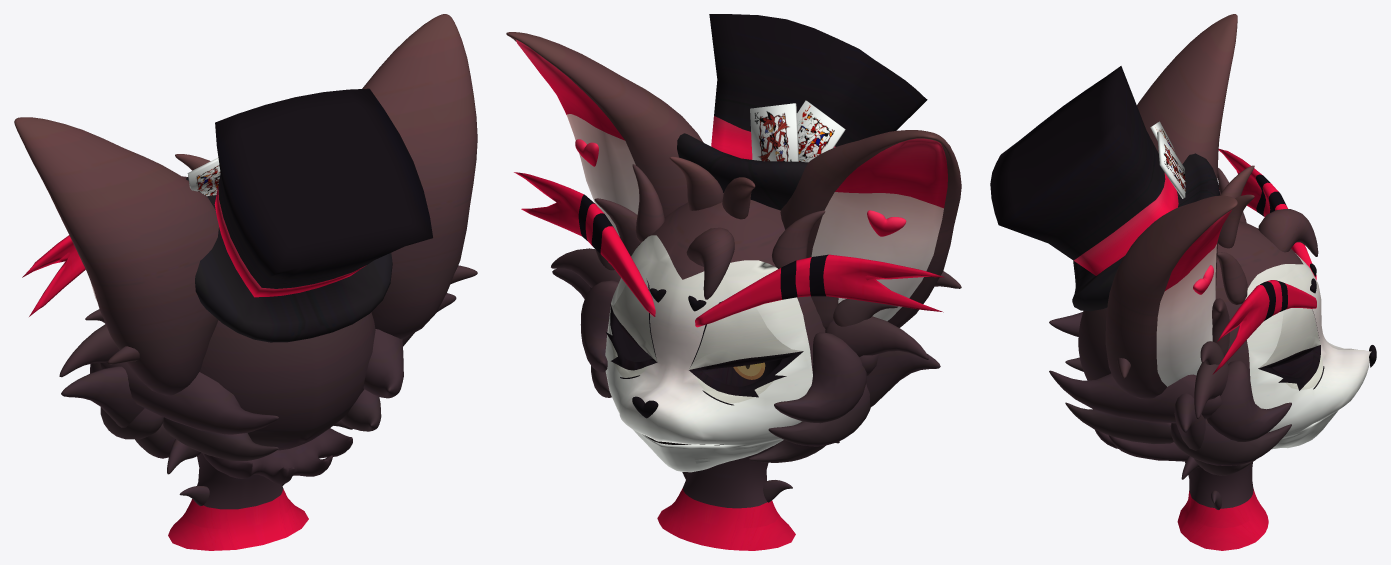
The model's file is husk.glb.
3 views of the same model, side by side, from view 1: azimuth 30°, elevation 25°; view 2: azimuth 150°, elevation 25°; view 3: azimuth 270°, elevation 25° (orthographic). The views are drawn at different scales.
Visible parts, largest first — view 1: huskerf606; view 2: huskerf606; view 3: huskerf606.
Boxes of the visible parts, x1=… form: huskerf606: x1=14, y1=14, x2=477, y2=550; huskerf606: x1=506, y1=14, x2=961, y2=550; huskerf606: x1=990, y1=14, x2=1376, y2=550.
Size of the model in its own units: 6.46 by 6.65 by 5.42.
Materials: 1 (1 with a texture image).
